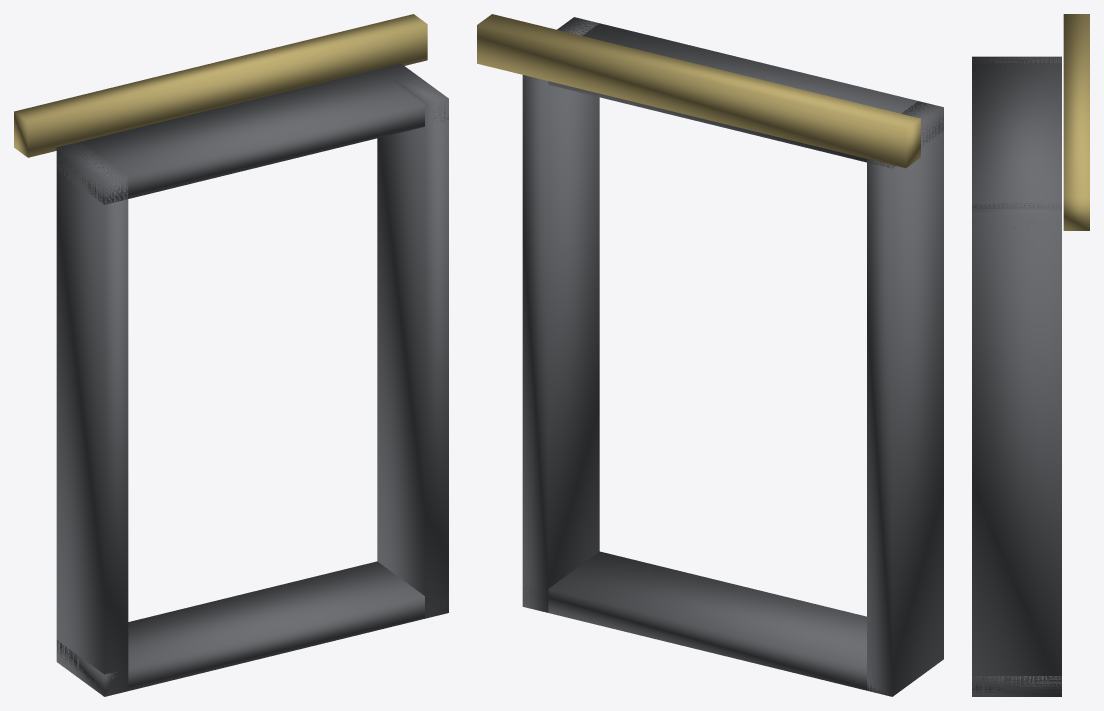
File: egress_window_motel_w86_h130_s55_d24.glb
3 views of the same model, side by side, from view 1: azimuth 30°, elevation 25°; view 2: azimuth 150°, elevation 25°; view 3: azimuth 270°, elevation 25° (orthographic). The views are drawn at different scales.
Visible parts, largest first — view 1: world; view 2: world; view 3: world.
Part boxes in pixels (x1=…): world: x1=14, y1=14, x2=448, y2=696; world: x1=477, y1=14, x2=943, y2=696; world: x1=972, y1=14, x2=1089, y2=696.
Bounding box in the file's own units: 1.16 × 1.51 × 0.315.
